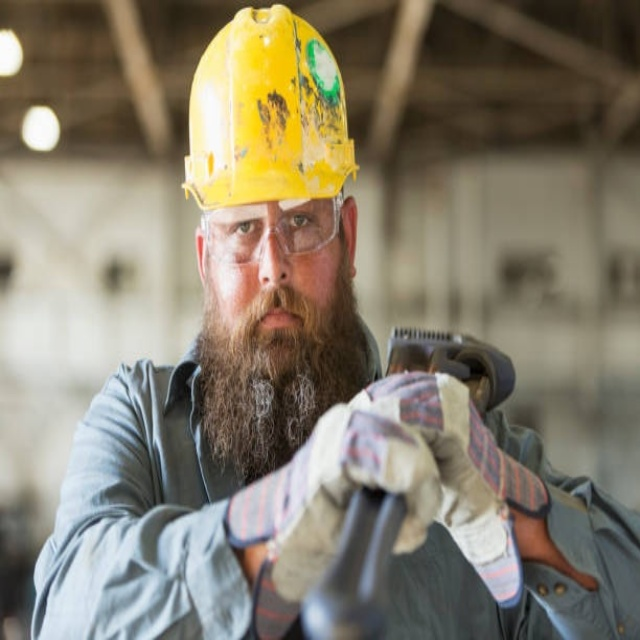Gafas: (197, 190, 349, 268)
Guantes: (360, 370, 554, 615), (265, 393, 444, 604)
Sin_mascara: (238, 285, 312, 350)
